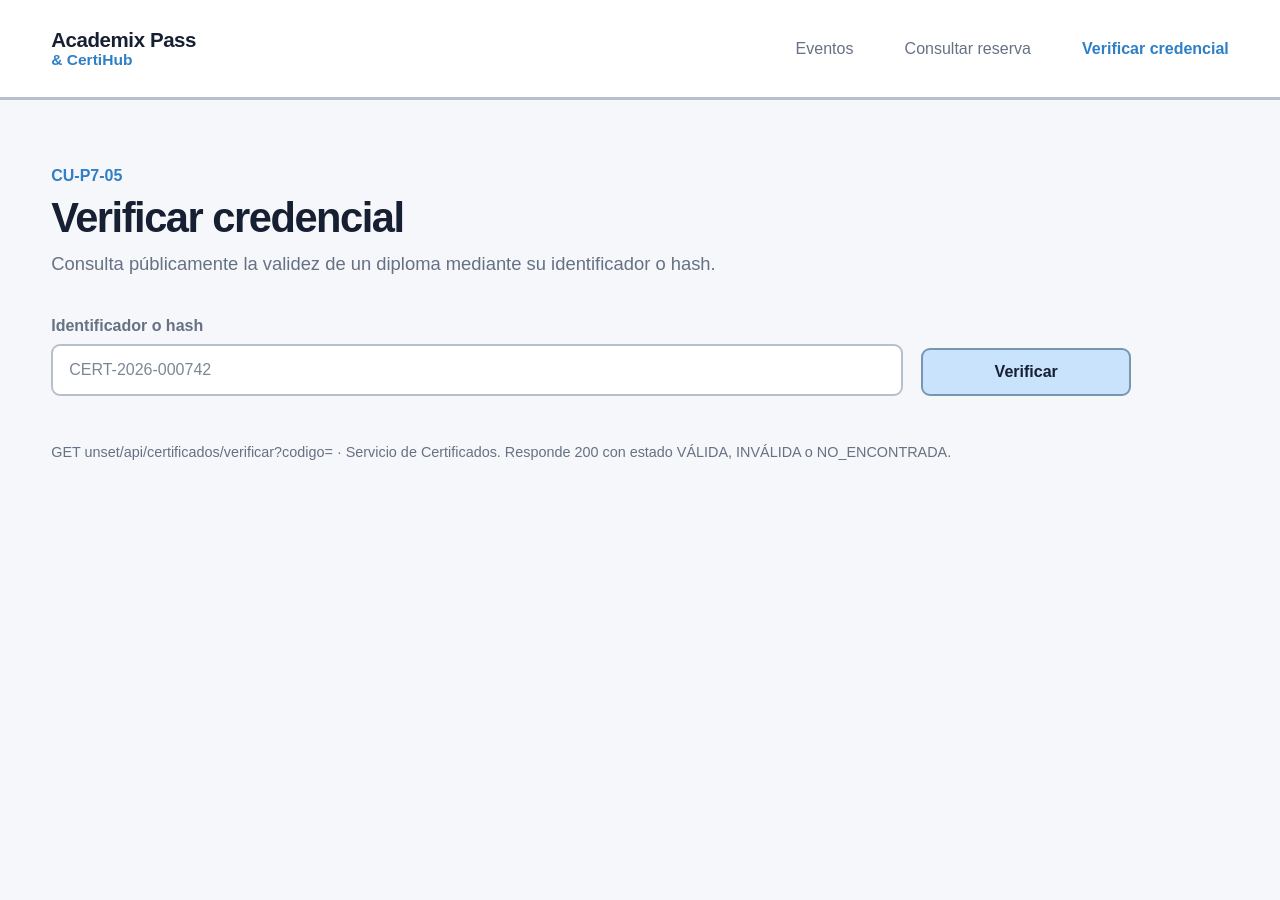
Scenario: Verificación de credencial › muestra estados no encontrada y error del servicio
Step 1. Type "CERT-NO-ENCONTRADA" into the field labelled "Identificador o hash" → (477, 370), box top-left (51, 344), bottom-right (903, 396)
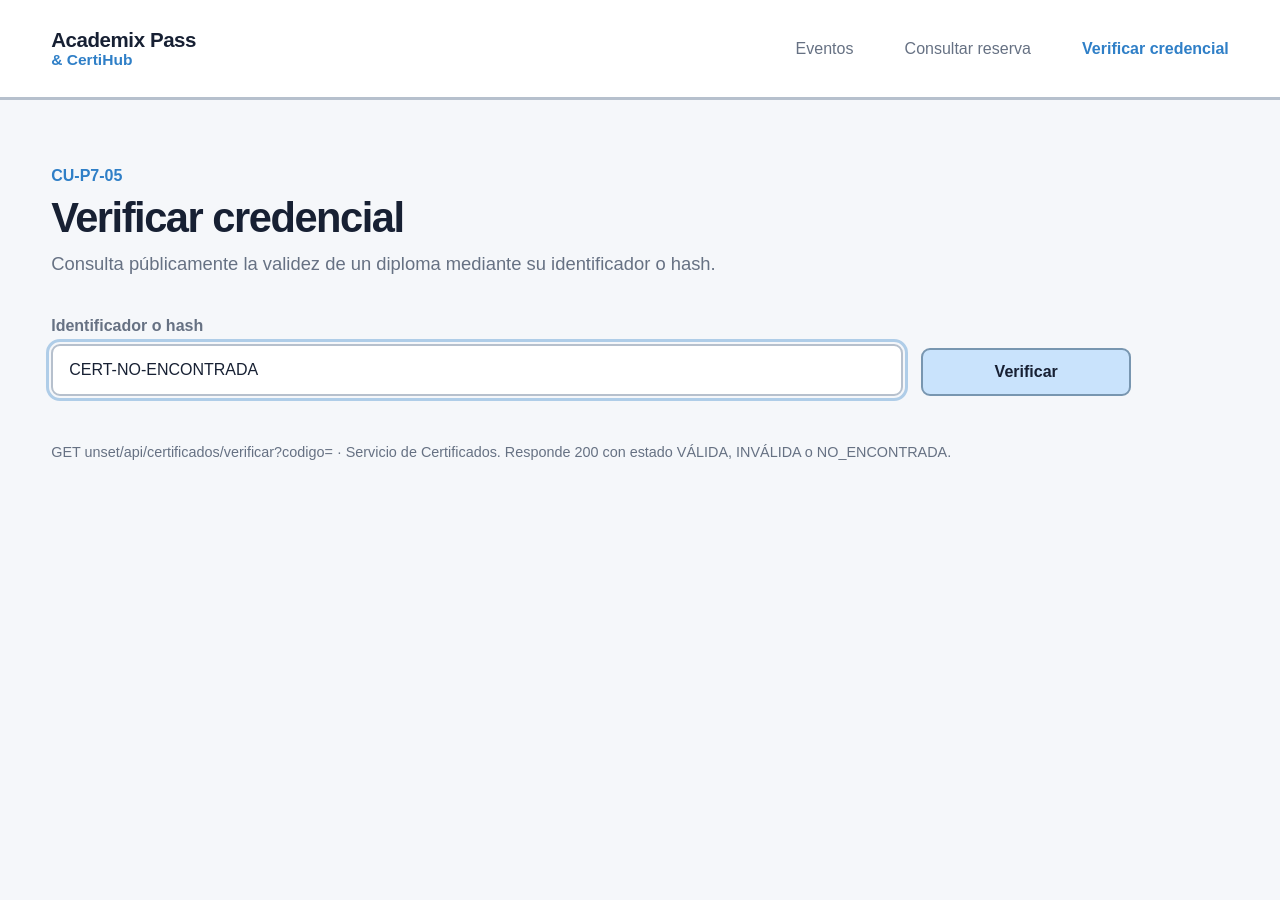
Step 2. Click the button "Verificar" → (1026, 372), box top-left (921, 348), bottom-right (1131, 396)
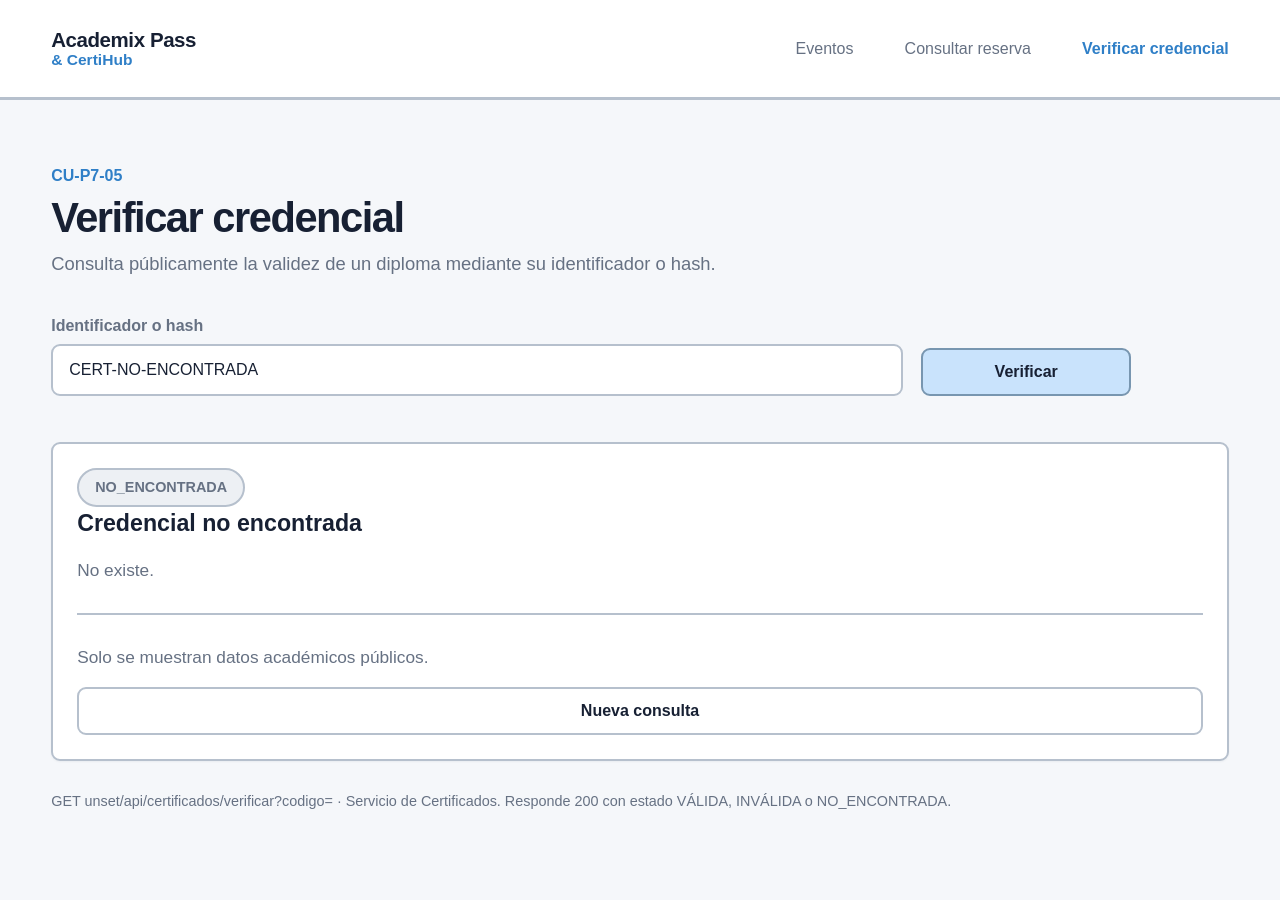
Now the heading "Credencial no encontrada" is shown, box top-left (77, 510), bottom-right (362, 536)
Step 3. Click the button "Nueva consulta" → (640, 711), box top-left (77, 687), bottom-right (1203, 735)
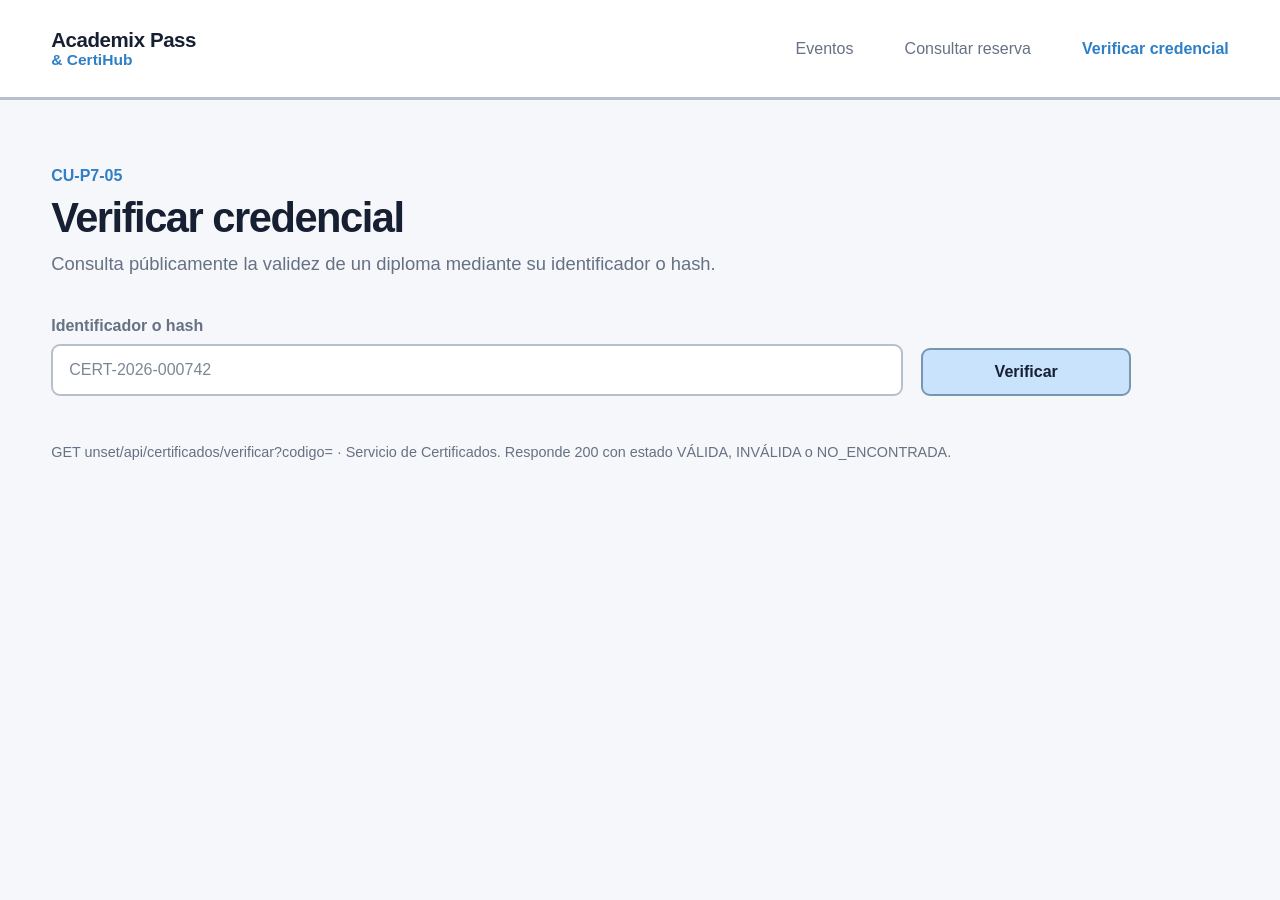
Step 4. Type "CERT-ERROR" into the field labelled "Identificador o hash" → (477, 370), box top-left (51, 344), bottom-right (903, 396)
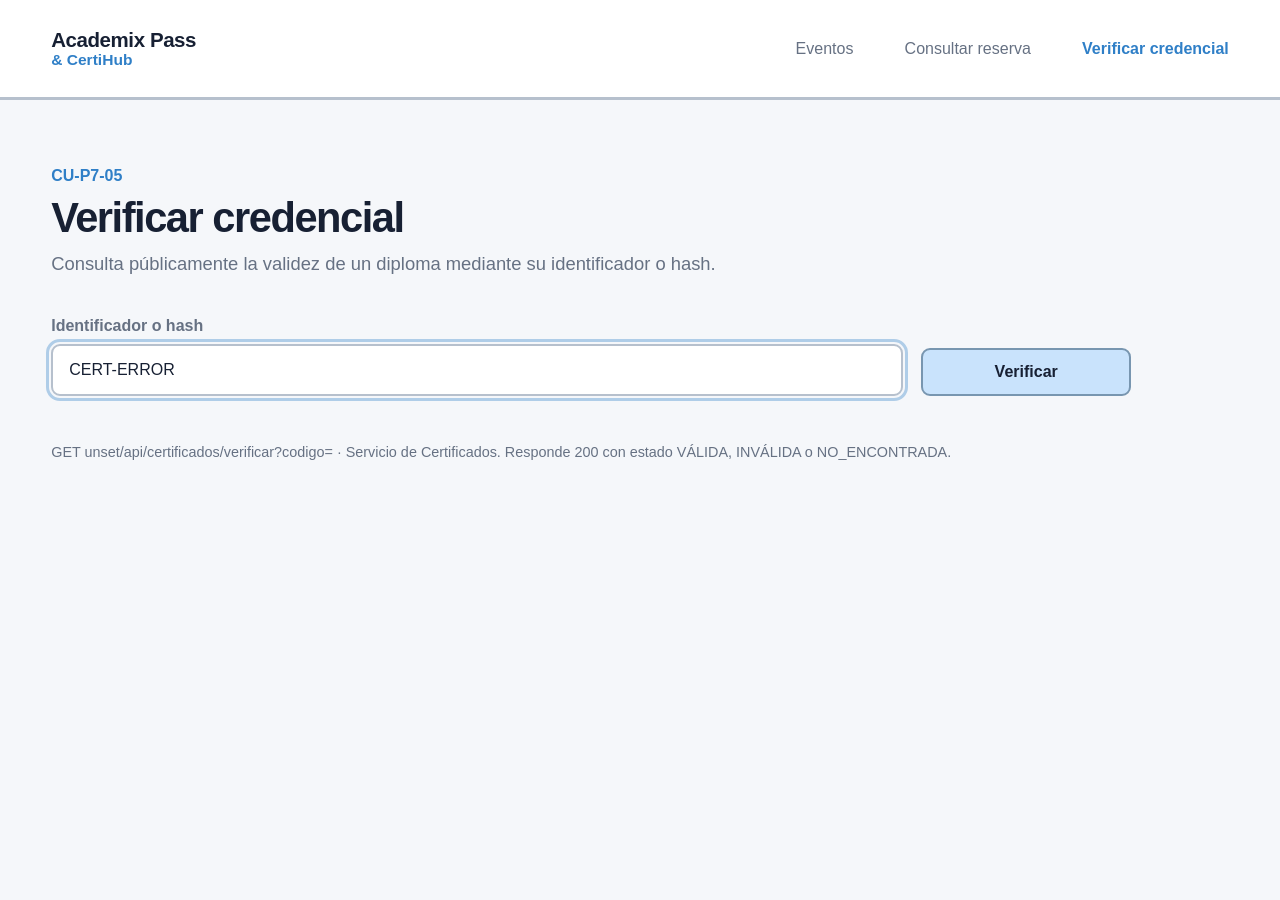
Step 5. Click the button "Verificar" → (1026, 372), box top-left (921, 348), bottom-right (1131, 396)
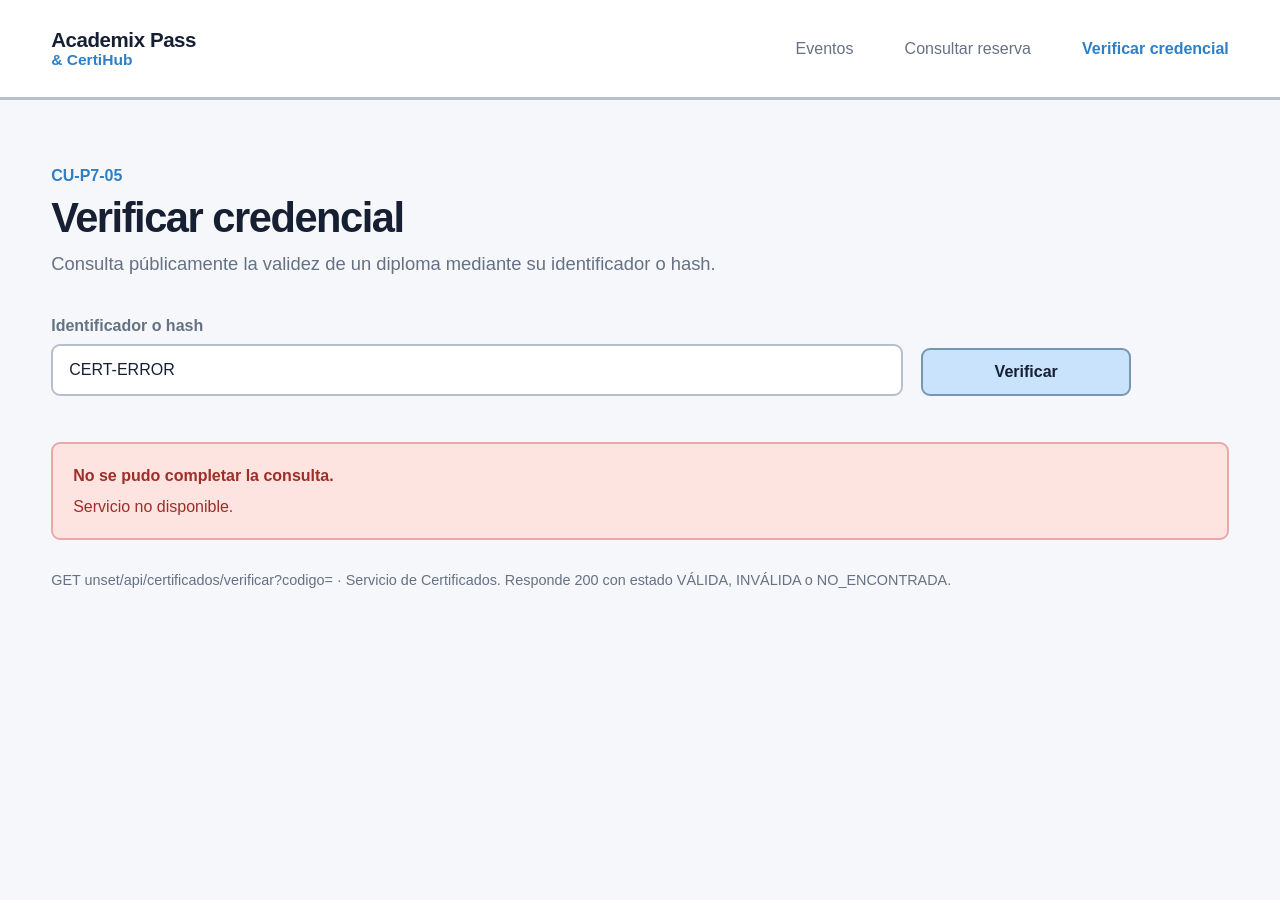
Now the text "Servicio no disponible." is shown, box top-left (73, 495), bottom-right (233, 518)
